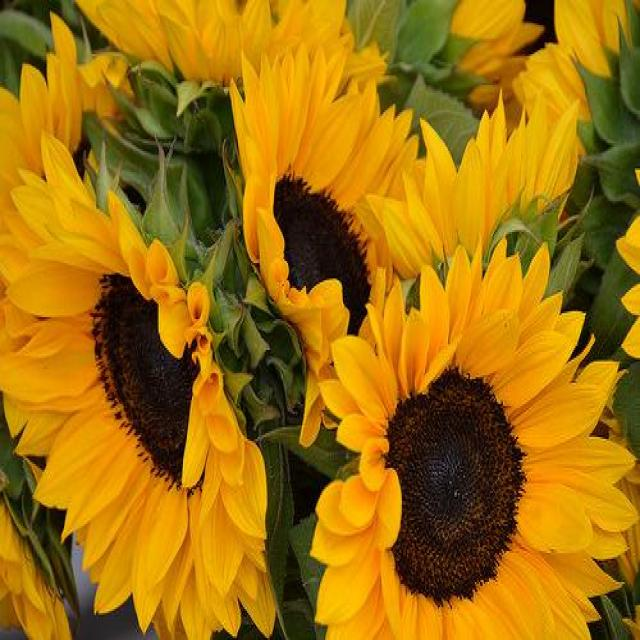sunflower: (2, 133, 276, 640), (312, 236, 640, 640), (228, 43, 420, 443), (367, 94, 582, 262), (76, 0, 387, 81), (513, 3, 632, 144), (2, 8, 84, 172), (454, 0, 548, 118), (3, 509, 74, 638), (598, 443, 640, 580), (618, 164, 640, 358)
